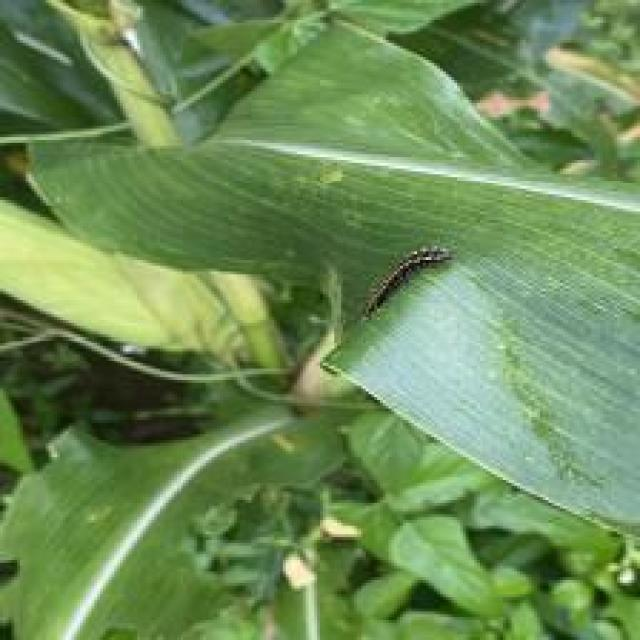Plaga: (328, 224, 468, 335)
